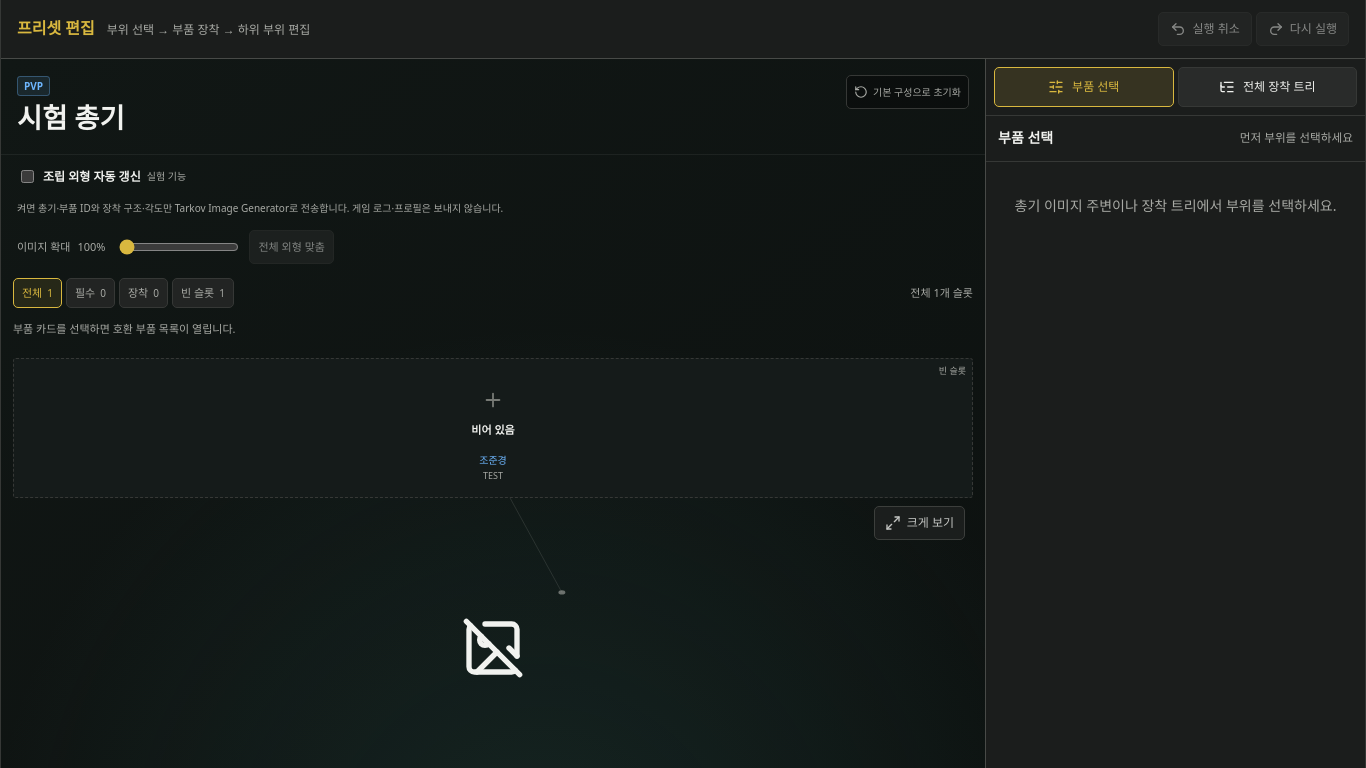
Test case: preset editing workbench › opens the parts panel from a visual slot and switches to the installed tree
Click the button "빈 슬롯 비어 있음 조준경 TEST" at (493, 428), box [13,358,973,498]
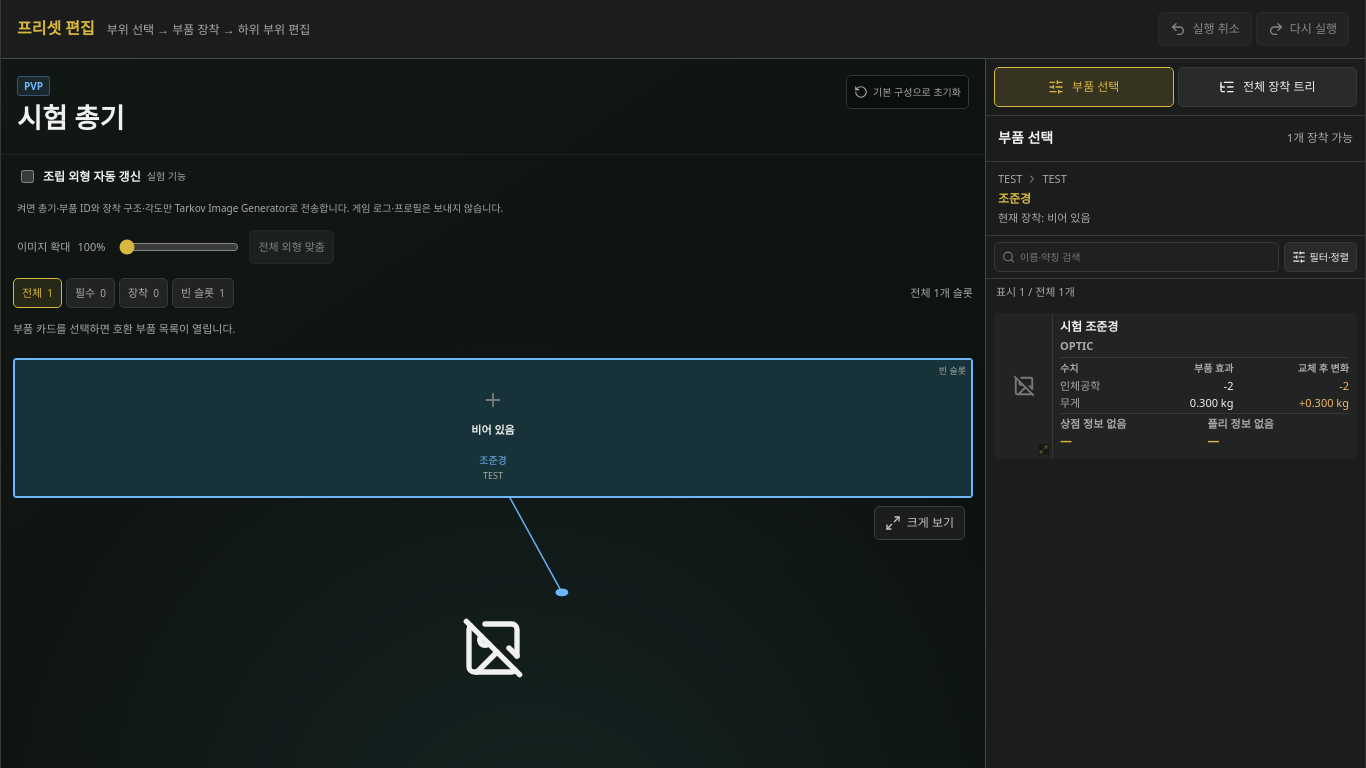
Expected: the button with aria-label "시험 조준경 장착" is shown, [1053,314,1356,458]
Click the button "전체 장착 트리" at (1267, 87), box [1178,67,1357,107]
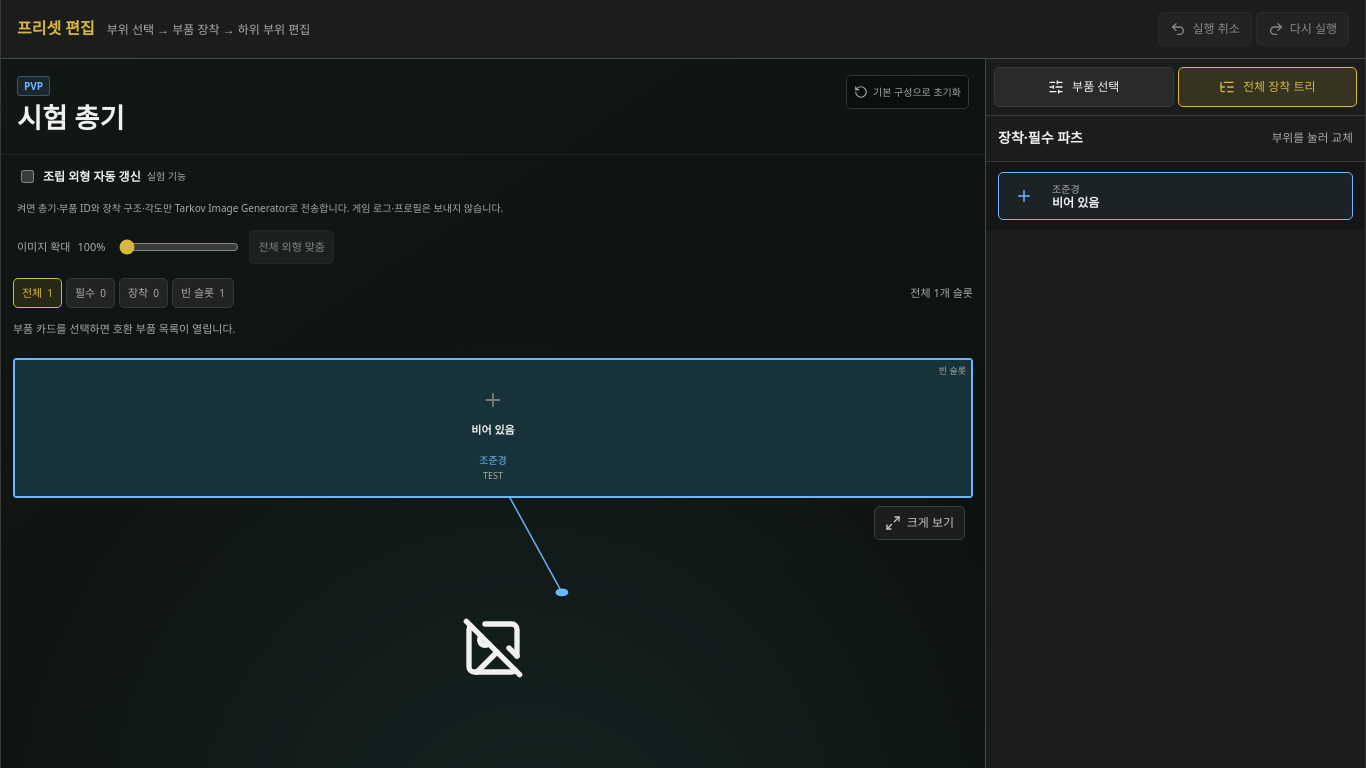
Expected: the element "장착·필수 파츠" is shown, [986,116,1365,230]
Click the button with aria-label "부품 선택 패널" at (1084, 87), box [994,67,1174,107]
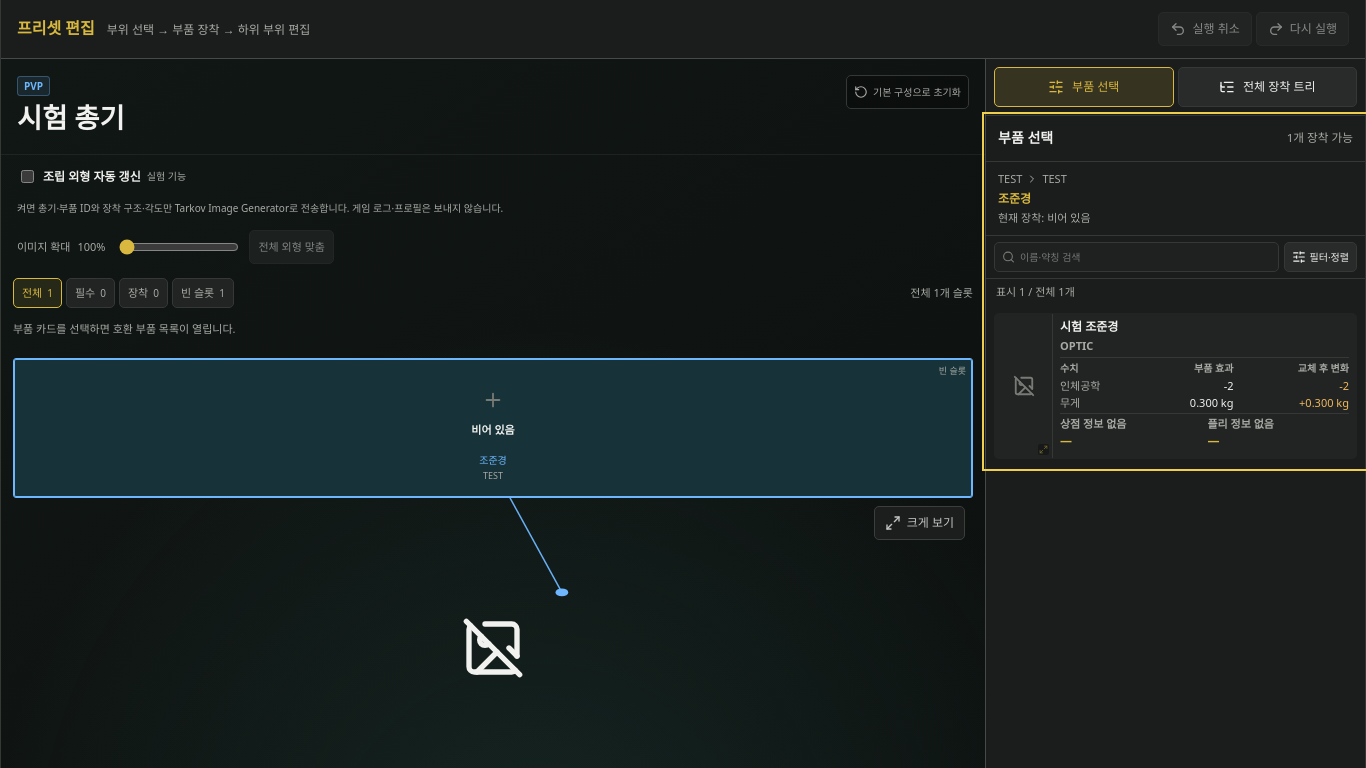
Expected: the button with aria-label "시험 조준경 장착" is shown, [1053,314,1356,458]
